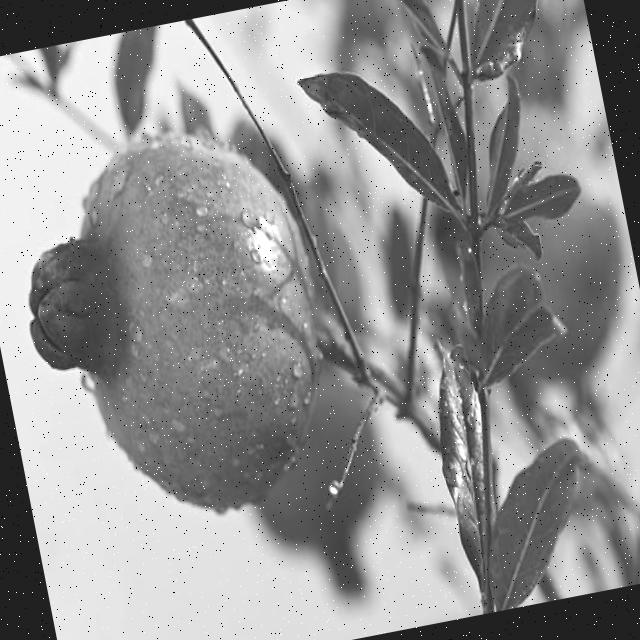Pomegranate: (0, 110, 353, 545)
